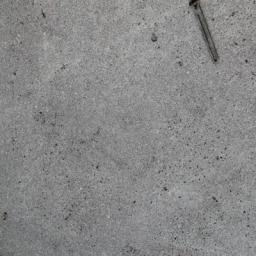FOD: (187, 1, 224, 68)
